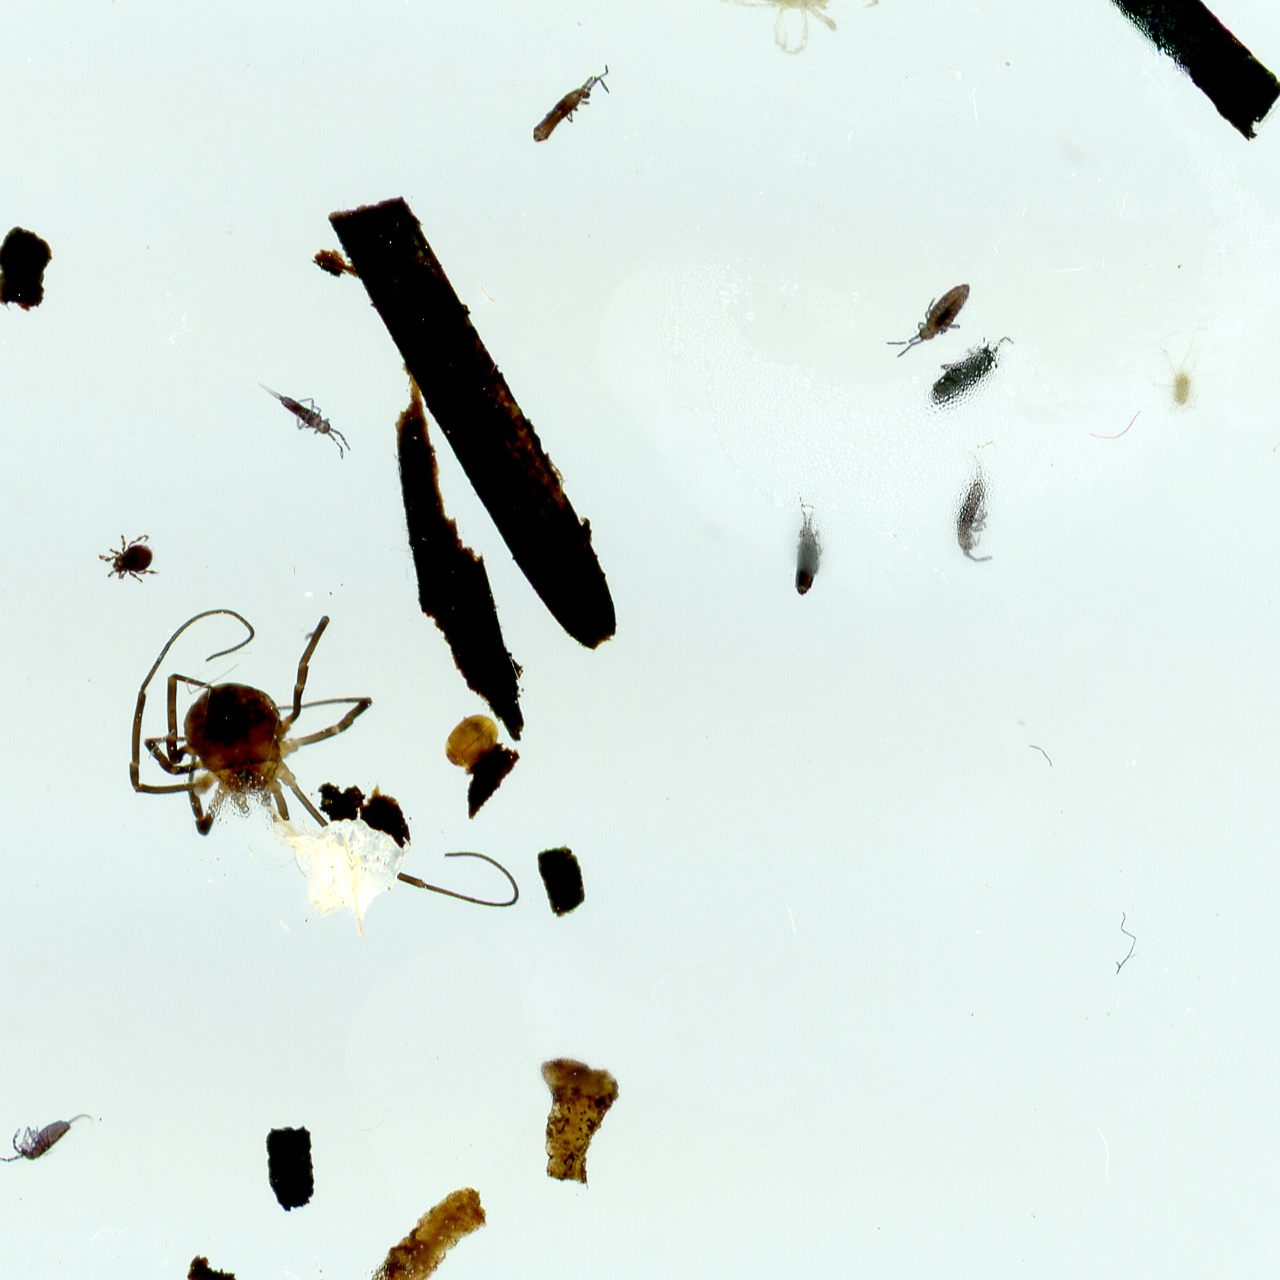arthropod: (123, 606, 523, 913), (874, 260, 990, 383), (243, 360, 365, 467), (520, 48, 626, 166), (688, 0, 884, 59), (930, 335, 1016, 409), (1148, 324, 1214, 417), (951, 448, 995, 566), (0, 1112, 96, 1166), (438, 704, 503, 784), (790, 485, 828, 599), (98, 533, 161, 584)
